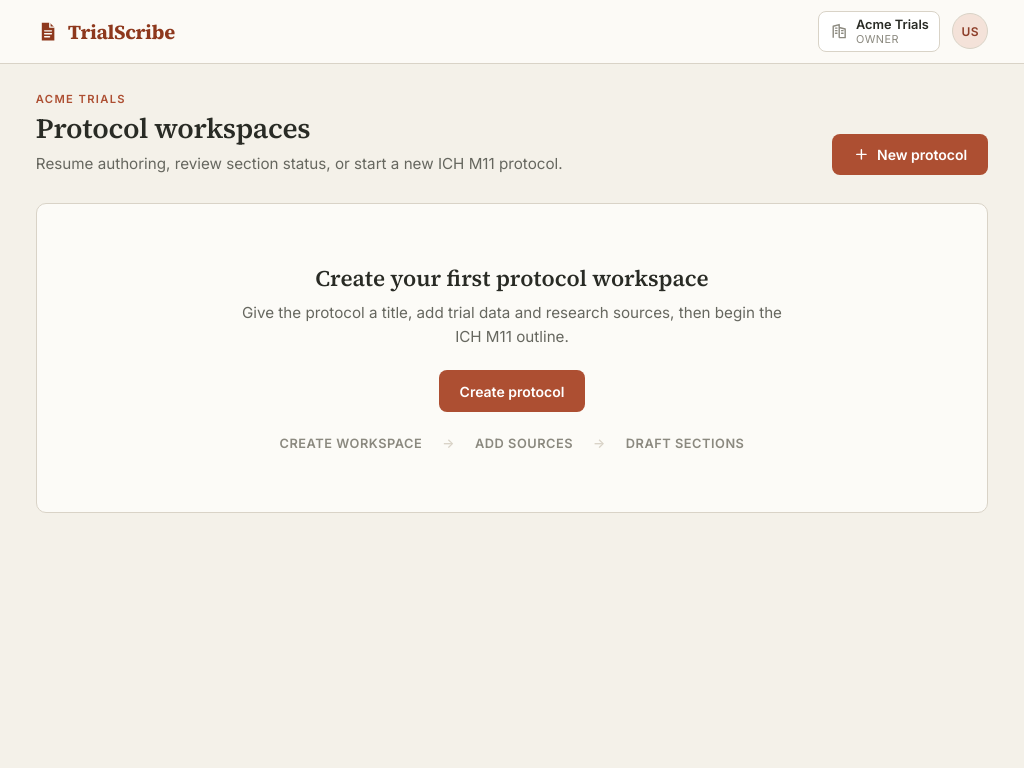
session flow › logs out back to the login form
Click the button with aria-label "Account menu".
click(970, 32)  # box x1=952 y1=14 x2=988 y2=50
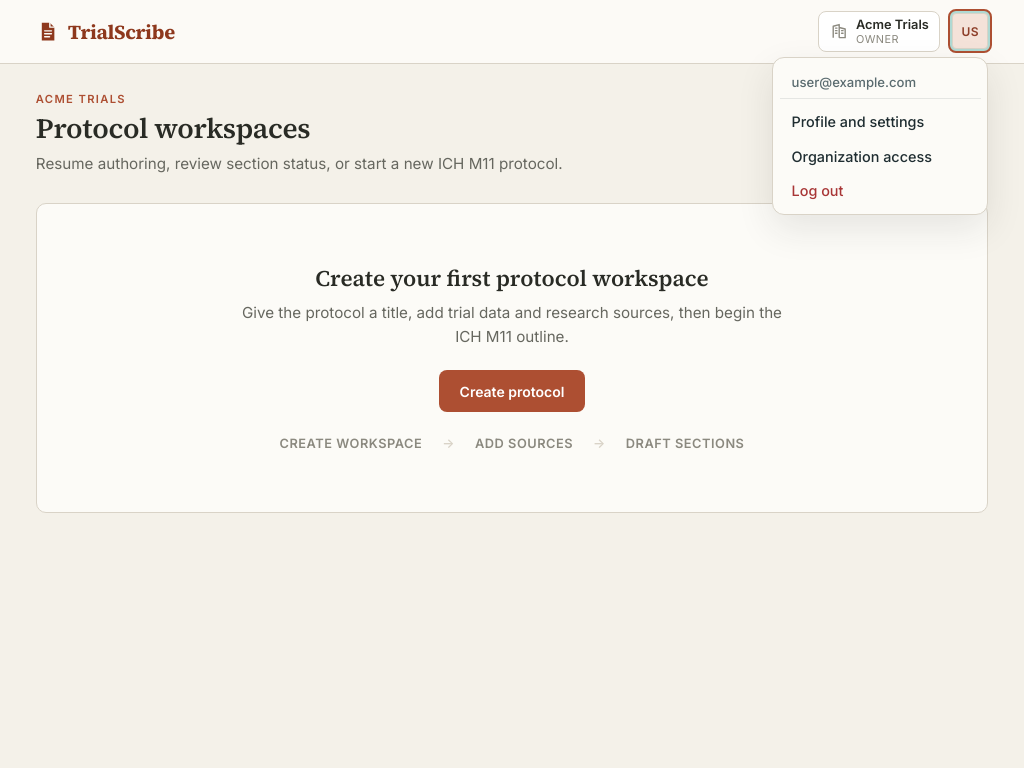
Click the button "Log out".
click(880, 191)  # box x1=780 y1=174 x2=981 y2=208
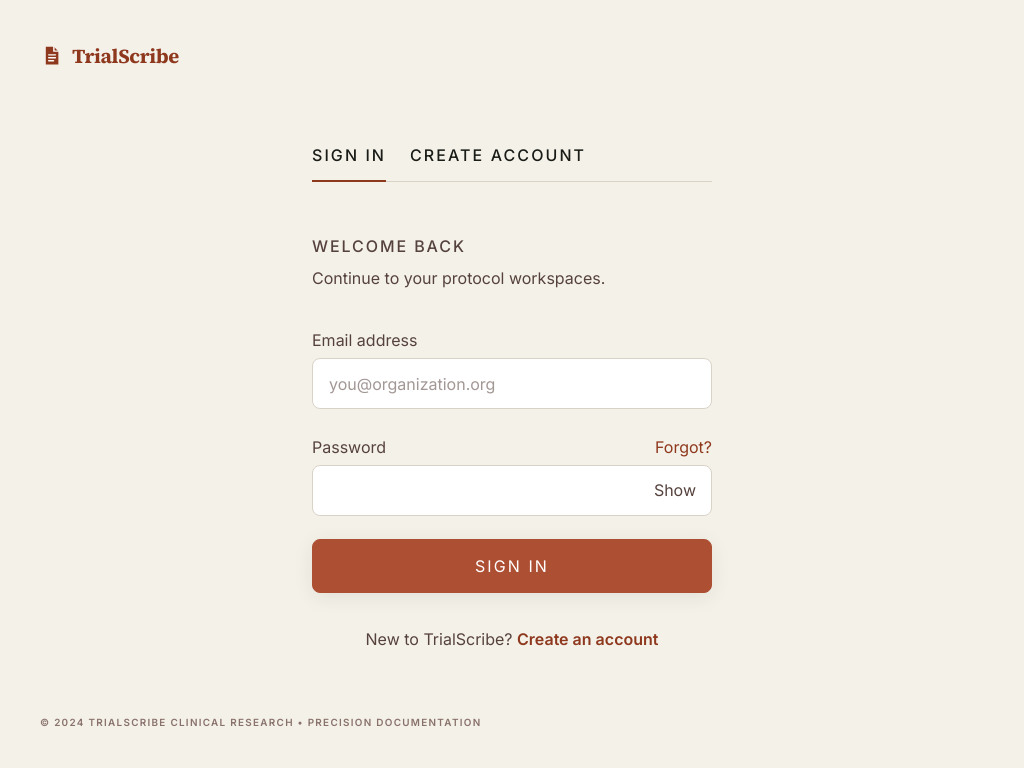
Now the field labelled "Email" is shown, box x1=312 y1=358 x2=712 y2=409
